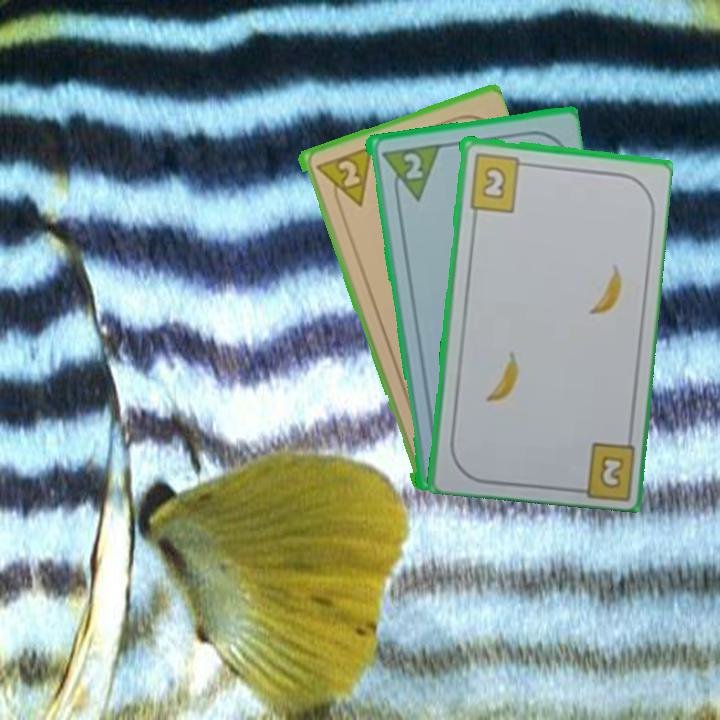2b: (466, 149, 531, 214), (596, 451, 627, 492)
2p: (311, 143, 374, 214), (399, 148, 425, 182)
